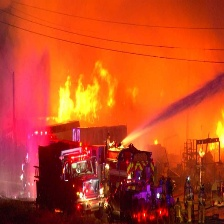fire: (56, 69, 121, 118), (197, 104, 224, 161)
